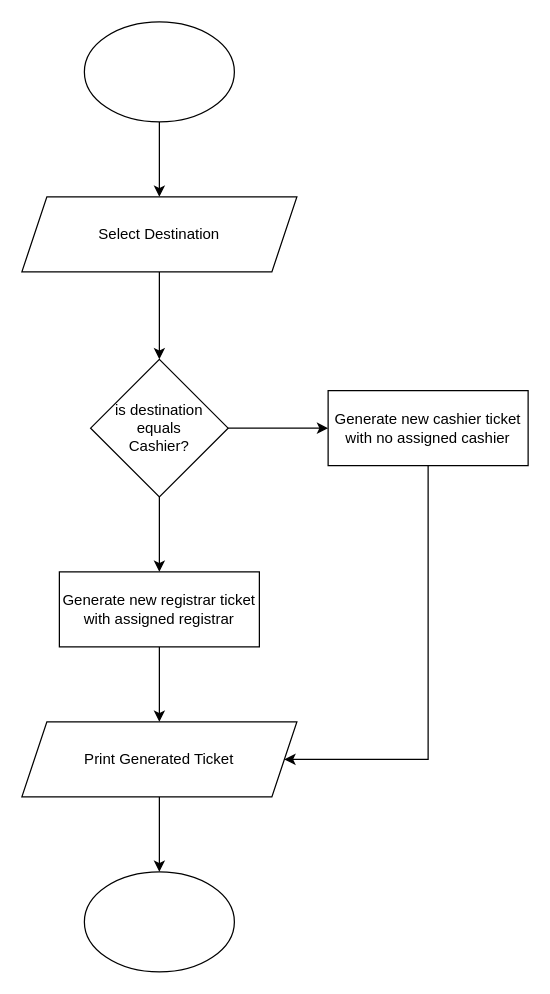
Some shapes in this 550 by 994 pixel diagram are drawn without their labels. The shapes that lost their labels are listed below. From the top down, each one's centre as x and y in pixels, then its label:
the point at 158,71: Start
the point at 158,921: End
